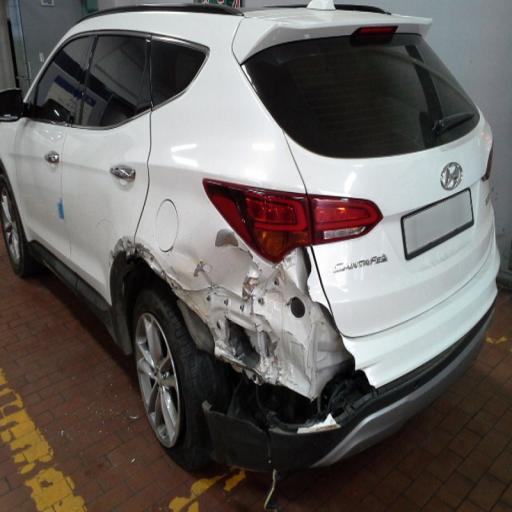broken: (124, 186, 386, 448)
